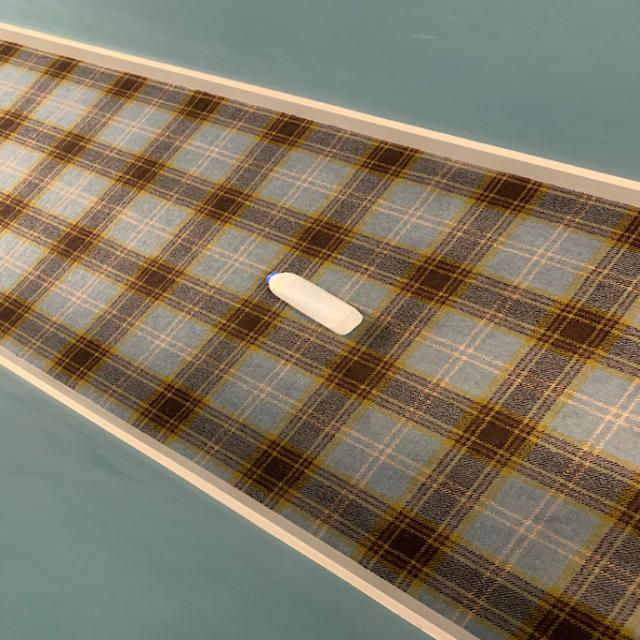litter: (264, 272, 368, 334)
